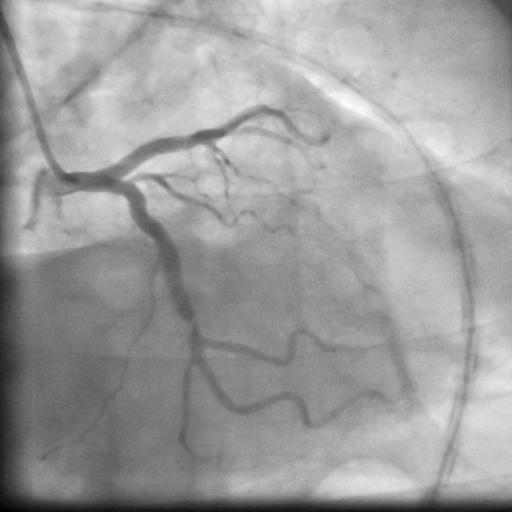Stenosis: (182, 314, 202, 332)
